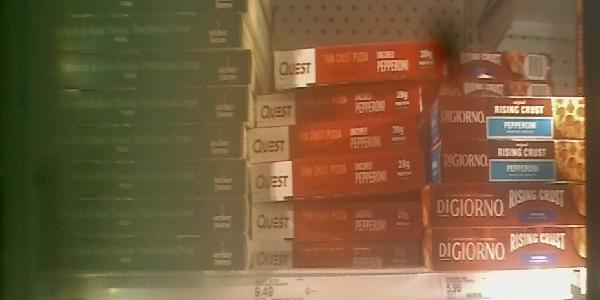pizza2: (42, 122, 242, 165), (34, 236, 244, 273), (254, 158, 422, 204), (52, 54, 254, 90), (36, 200, 245, 234), (430, 183, 585, 228), (275, 40, 441, 82), (51, 17, 243, 53), (48, 91, 254, 124), (428, 228, 589, 269), (34, 165, 244, 196), (440, 97, 587, 141), (441, 138, 584, 183), (249, 202, 425, 236), (256, 86, 422, 120), (252, 125, 421, 157), (249, 244, 425, 270), (446, 51, 552, 80), (450, 83, 554, 95)
